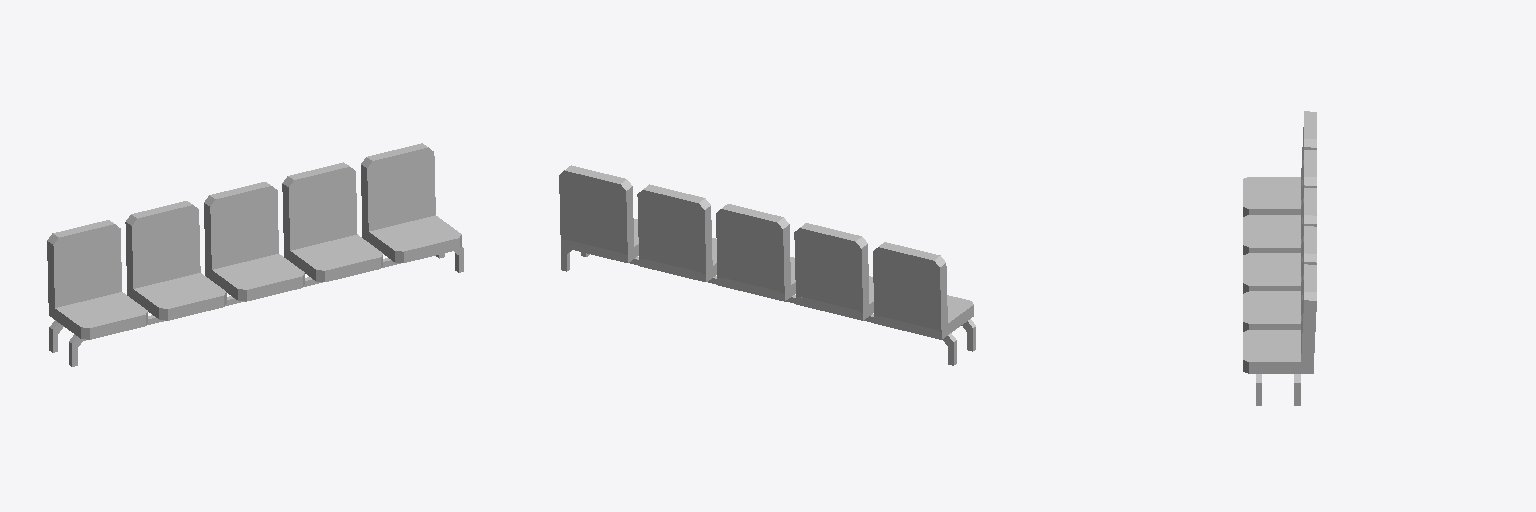
Rendered from chair0.obj.
3 renders of one model, left to right at view 1: azimuth 30°, elevation 25°; view 2: azimuth 150°, elevation 25°; view 3: azimuth 270°, elevation 25°, orthographic.
Parts seen in each view (by area): view 1: Part35, Part46, Part57, Part23, Part11, Part12, Part24, Part36, Part47, Part58, Part15, Part3 (+13 smaller); view 2: Part9, Part33, Part21, Part44, Part55, Part42, Part7, Part19, Part31, Part53, Part45, Part56 (+8 smaller); view 3: Part12, Part36, Part24, Part47, Part58, Part29, Part26.
Boxes of the visible parts, x1,y1,x2,y2 form: Part35: [373, 153, 429, 229]; Part46: [294, 173, 351, 248]; Part57: [216, 192, 272, 268]; Part23: [138, 211, 194, 287]; Part11: [59, 230, 116, 306]; Part12: [61, 293, 141, 325]; Part24: [140, 274, 219, 306]; Part36: [375, 217, 455, 248]; Part47: [296, 236, 376, 267]; Part58: [218, 255, 298, 287]; Part15: [166, 293, 223, 320]; Part3: [87, 312, 145, 339]; Part9: [878, 253, 935, 329]; Part33: [565, 177, 621, 252]; Part21: [800, 234, 856, 309]; Part44: [643, 196, 700, 271]; Part55: [721, 215, 778, 290]; Part42: [699, 206, 712, 278]; Part7: [934, 263, 947, 335]; Part19: [856, 244, 869, 316]; Part31: [621, 186, 633, 259]; Part53: [777, 224, 790, 293]; Part45: [643, 184, 704, 208]; Part56: [721, 204, 783, 227]; Part12: [1249, 179, 1300, 206]; Part36: [1249, 332, 1300, 359]; Part24: [1249, 218, 1300, 244]; Part47: [1249, 294, 1300, 320]; Part58: [1249, 256, 1300, 282]; Part29: [1301, 300, 1316, 370]; Part26: [1249, 360, 1306, 373].
Bounding box in the file's own units: 15.18 × 4.03 × 2.5.